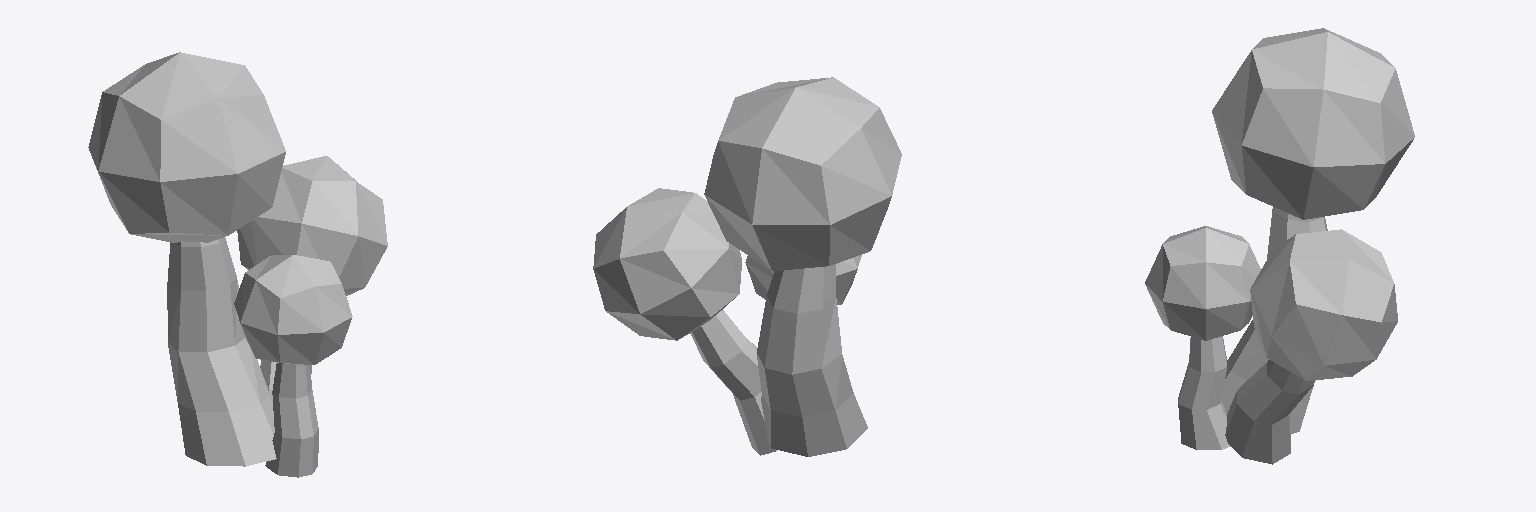
Rendered from small tiny spores.obj.
The picture shows the model from 3 angles: view 1: azimuth 30°, elevation 25°; view 2: azimuth 150°, elevation 25°; view 3: azimuth 270°, elevation 25°; orthographic projection.
Visible parts, largest first — view 1: Cube.003_Cube.006; view 2: Cube.003_Cube.006; view 3: Cube.003_Cube.006.
Boxes of the visible parts, <box> form: Cube.003_Cube.006: <box>88,52,387,477</box>; Cube.003_Cube.006: <box>593,77,901,456</box>; Cube.003_Cube.006: <box>1145,28,1414,464</box>.
Size of the model in its own units: 25.37 by 34.2 by 21.1.